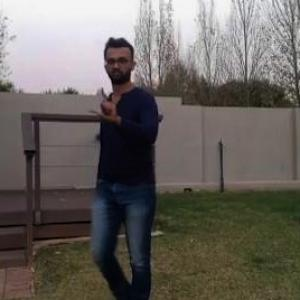land_hand: (87, 82, 123, 124)
